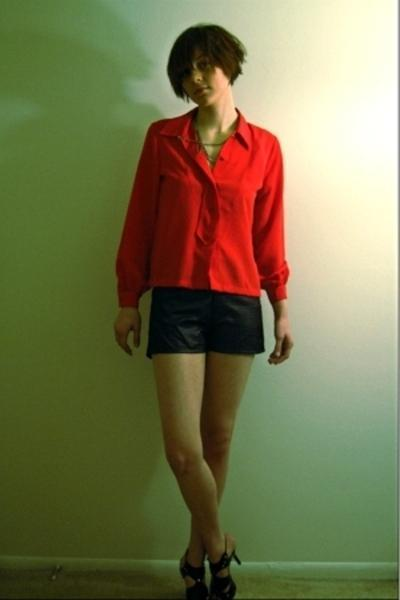shirt: (116, 108, 288, 323)
shoe: (180, 525, 239, 579)
